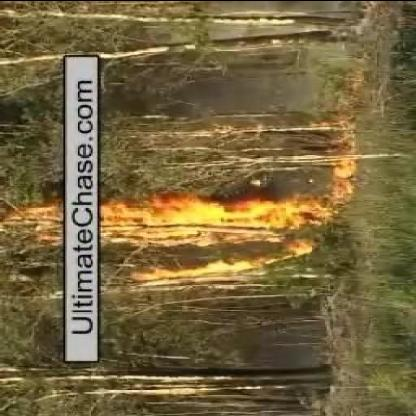foggia-v2-map80-epoch100 - v1 4323: (102, 191, 341, 244)
